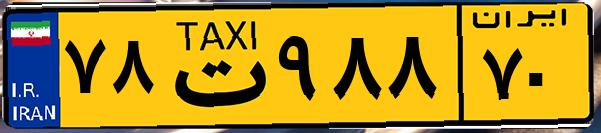0: (525, 38, 570, 115)
7: (57, 26, 110, 100), (475, 38, 525, 113)
8: (385, 28, 445, 110), (330, 28, 385, 110), (110, 28, 158, 98)
9: (270, 28, 330, 110)
ت: (158, 12, 270, 120)
